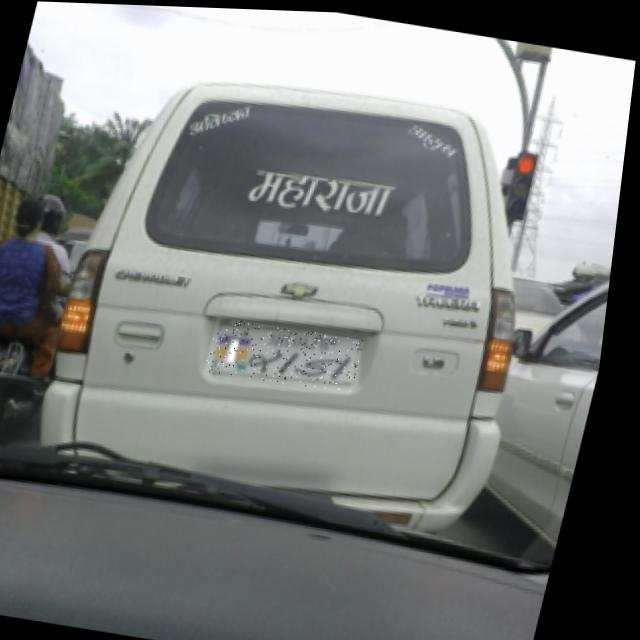license_plate: (211, 314, 373, 391)
